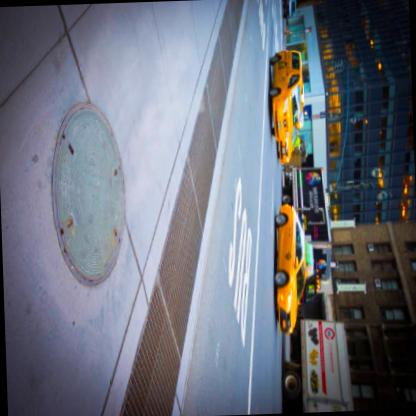manholes: (28, 78, 152, 318)
